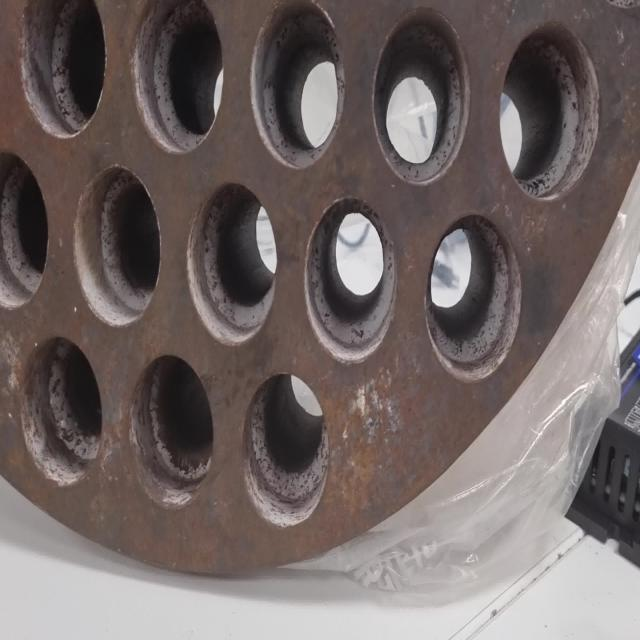Hole: (498, 21, 600, 201), (372, 6, 471, 185), (424, 211, 523, 383), (250, 1, 346, 170), (304, 194, 397, 363), (186, 182, 278, 346), (72, 164, 161, 328), (131, 1, 224, 155), (242, 370, 329, 530), (129, 354, 213, 508), (20, 335, 103, 487), (19, 0, 107, 138), (0, 150, 48, 310)
